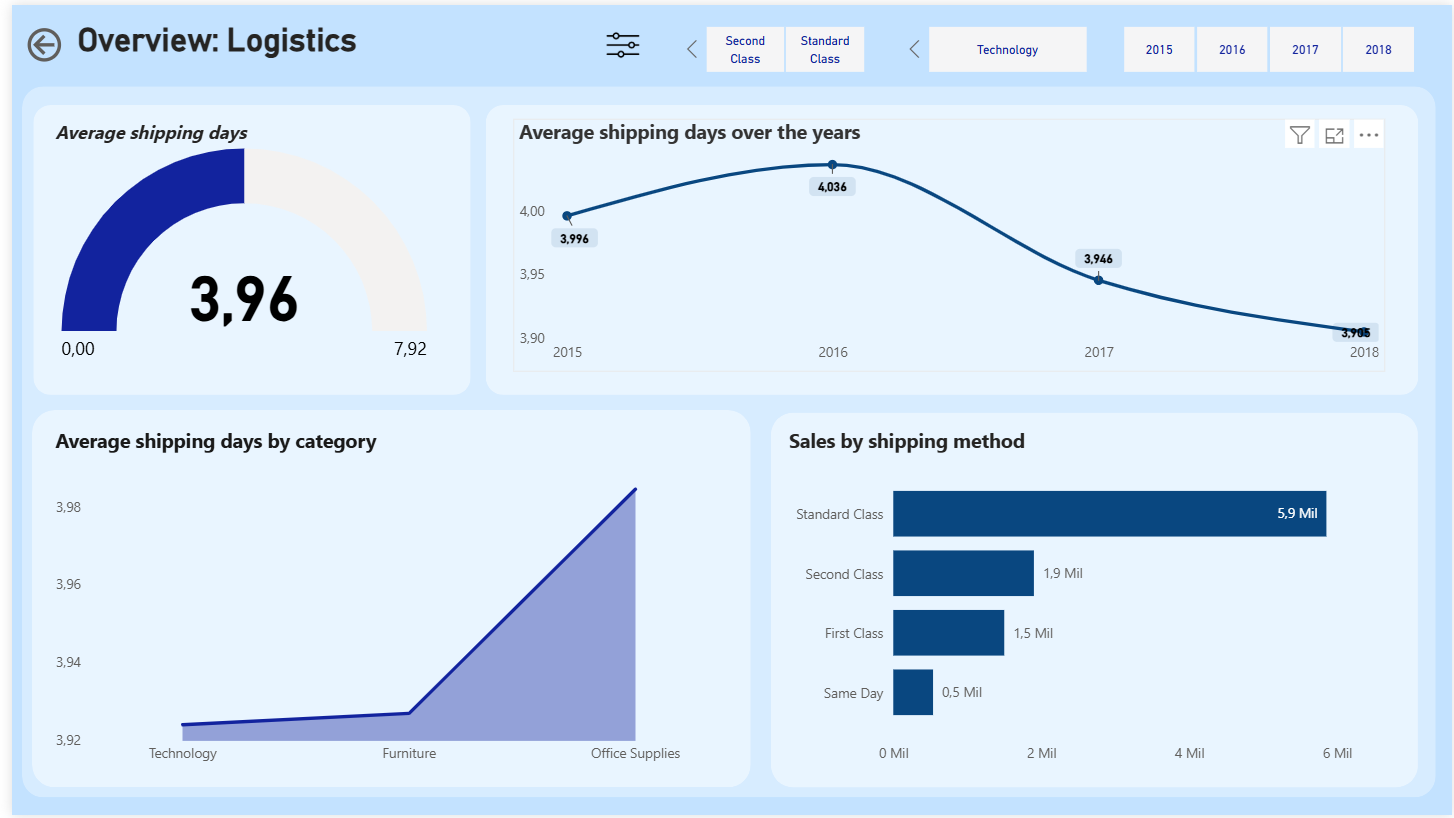

The dashboard page shown, as its layout file describes it:
{"tool":"powerbi","page":{"name":"LOGISTICS","canvas":[1280,720],"ordinal":2},"visuals":[{"type":"shape","box":[8.9,72.2,1256.7,632.2],"z":0},{"type":"shape","box":[18.9,88.9,388.9,257.8],"z":1000},{"type":"shape","box":[421.1,88.9,828.9,257.8],"z":2000},{"type":"shape","box":[674.4,362.2,575.6,333.3],"z":3000},{"type":"shape","box":[17.8,360,638.9,335.6],"z":4000},{"type":"areaChart","title":"Average shipping days by category","fields":{"Y":["public vw_fatvendas.Media dias de envio"],"Category":["public vw_dproduto.category"]},"box":[33.3,375.6,606.7,307.8],"z":5000},{"type":"gauge","title":"Average shipping days","fields":{"Y":["public vw_fatvendas.Media dias de envio"]},"box":[33.3,101.1,346.7,225.6],"z":6000},{"type":"lineChart","title":"Average shipping days over the years","fields":{"Y":["public vw_fatvendas.Media dias de envio"],"Category":["dcalendario.Date.Variation.Hierarquia de datas.Ano"]},"box":[445.6,101.1,774.4,225.6],"z":7000},{"type":"barChart","title":"Sales by shipping method","fields":{"Category":["public vw_fatvendas.modo_envio"],"Y":["public vw_fatvendas.Total vendas"]},"box":[685.6,375.6,534.4,307.8],"z":8000},{"type":"textbox","box":[53.8,9,326.8,46.1],"z":9000},{"type":"actionButton","box":[9,15.4,44.9,39.7],"z":10000},{"type":"slicer","fields":{"Values":["dcalendario.Ano"]},"box":[962.2,12.2,307.8,54.4],"z":11000},{"type":"slicer","fields":{"Values":["public vw_dproduto.category"]},"box":[788.9,12.2,190,54.4],"z":12000},{"type":"image","box":[506.7,20,72.2,31.1],"z":13000},{"type":"slicer","fields":{"Values":["public vw_fatvendas.modo_envio"]},"box":[591.1,12.2,190,54.4],"z":14000}]}

Visuals, with their boxes in screenshot pixels (x1, y1, x2, y2), scaled from the page's 1280x720 canvas onto the 1454x818 screenshot:
shape: box(10, 82, 1438, 800)
shape: box(21, 101, 463, 394)
shape: box(478, 101, 1420, 394)
shape: box(766, 411, 1420, 790)
shape: box(20, 409, 746, 790)
"Average shipping days by category" areaChart: box(38, 427, 727, 776)
"Average shipping days" gauge: box(38, 115, 432, 371)
"Average shipping days over the years" lineChart: box(506, 115, 1386, 371)
"Sales by shipping method" barChart: box(779, 427, 1386, 776)
textbox: box(61, 10, 432, 63)
actionButton: box(10, 17, 61, 63)
slicer - dcalendario.Ano: box(1093, 14, 1443, 76)
slicer - public vw_dproduto.category: box(896, 14, 1112, 76)
image: box(576, 23, 658, 58)
slicer - public vw_fatvendas.modo_envio: box(671, 14, 887, 76)
